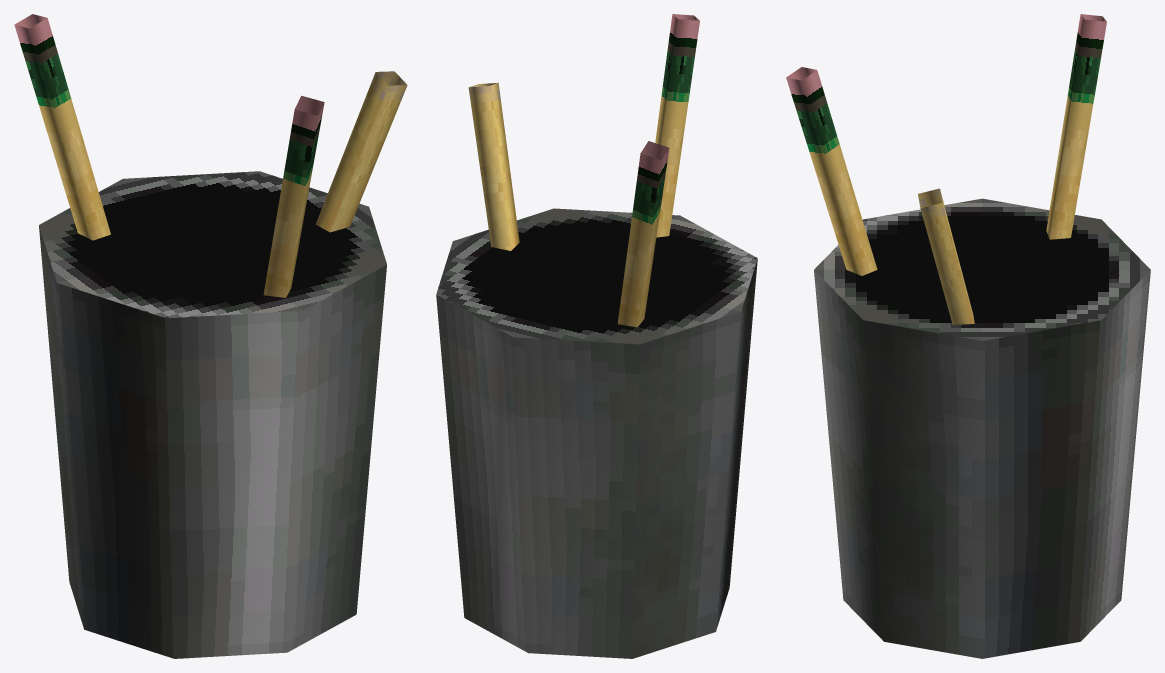
Rendered from pencils_in_cup.fbx.
3 views of the same model, side by side, from view 1: azimuth 30°, elevation 25°; view 2: azimuth 150°, elevation 25°; view 3: azimuth 270°, elevation 25° (orthographic). The views are drawn at different scales.
Visible parts, largest first — view 1: mesh_1, mesh_0; view 2: mesh_1, mesh_0; view 3: mesh_1, mesh_0.
Boxes of the visible parts, x1,y1,x2,y2 form: mesh_1: [39, 171, 386, 658]; mesh_0: [14, 14, 407, 297]; mesh_1: [436, 208, 757, 658]; mesh_0: [468, 14, 699, 327]; mesh_1: [814, 198, 1150, 658]; mesh_0: [786, 14, 1106, 324].
Size of the model in its own units: 10.17 by 17.36 by 10.82.
2 materials, 2 textured.
